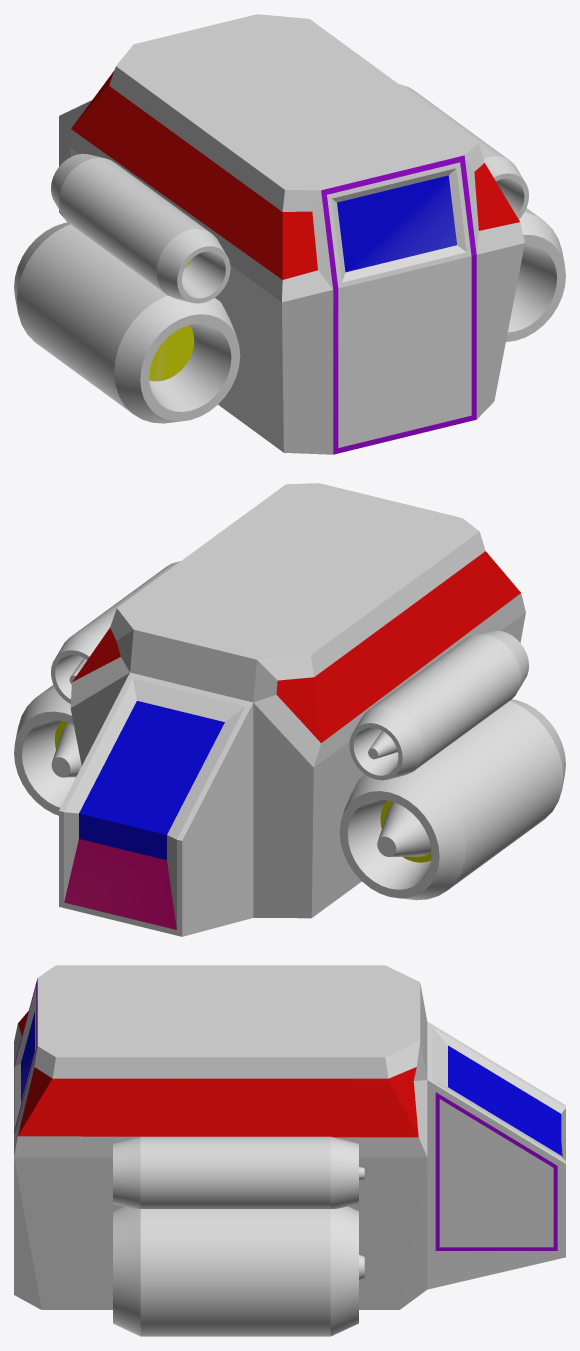
Rendered from Truck.fbx.
3 renders of one model, top to bottom at view 1: azimuth 30°, elevation 25°; view 2: azimuth 150°, elevation 25°; view 3: azimuth 270°, elevation 25°, orthographic. The views are drawn at different scales.
Parts seen in each view (by area): view 1: Cylinder; view 2: Cylinder; view 3: Cylinder.
Part boxes in pixels (x1,y1,x2,y2): Cylinder: (14, 14, 565, 454); Cylinder: (14, 483, 565, 936); Cylinder: (14, 965, 565, 1336).
Size of the model in its own units: 7.28 by 3.96 by 7.96.
